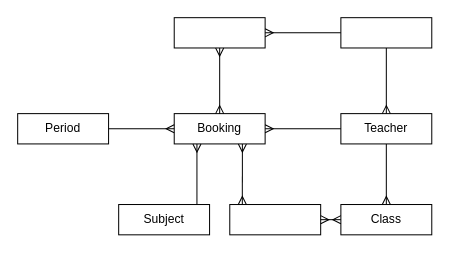
This 449x253 diagram has some shape labels left out. Here are the shapes that lost their labels. From the top down, the centre of each, then its label:
At point (219, 32): "Room".
At point (386, 32): "Department".
At point (275, 219): "Student".
